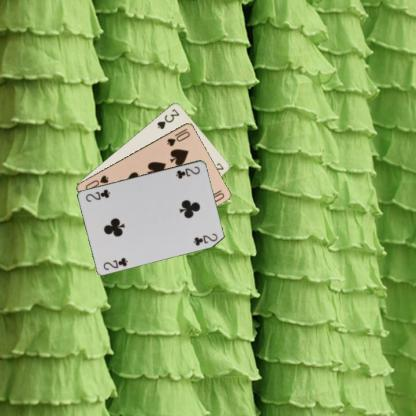10s: (164, 126, 191, 147)
2c: (101, 255, 130, 271), (173, 164, 201, 180)
3s: (154, 106, 180, 130)
